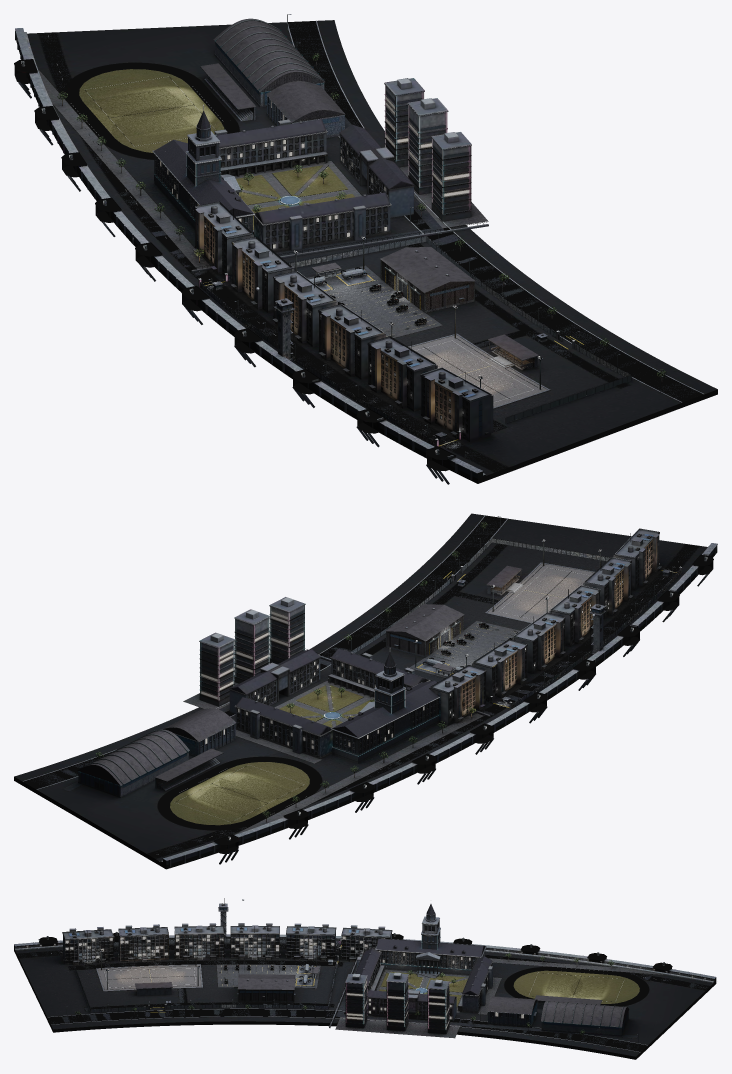
Rendered from barracks.glb.
3 renders of one model, top to bottom at view 1: azimuth 30°, elevation 25°; view 2: azimuth 150°, elevation 25°; view 3: azimuth 270°, elevation 25°, orthographic. The views are drawn at different scales.
Parts seen in each view (by area): view 1: site_ground, props_academy_blocks, props_academy_sports, props_barracks, props_edge, props_motorpool, props_academy_main, props_parade, props_trees, props_vehicles; view 2: site_ground, props_academy_sports, props_academy_blocks, props_barracks, props_edge, props_academy_main, props_motorpool, props_parade, props_trees; view 3: site_ground, props_barracks, props_academy_sports, props_academy_blocks, props_edge, props_academy_main, props_motorpool, props_parade, props_trees, props_lights, props_vehicles.
Part boxes in pixels (x1,y1,x2,y2): site_ground: (16, 20, 717, 483); props_academy_blocks: (191, 78, 488, 272); props_academy_sports: (64, 18, 345, 159); props_barracks: (192, 201, 493, 441); props_edge: (14, 28, 631, 484); props_motorpool: (307, 247, 475, 337); props_academy_main: (152, 104, 254, 234); props_parade: (408, 333, 550, 408); props_trees: (57, 53, 666, 382); props_vehicles: (309, 267, 426, 325); site_ground: (14, 513, 717, 869); props_academy_sports: (77, 708, 322, 830); props_academy_blocks: (199, 597, 490, 758); props_barracks: (429, 528, 661, 725); props_edge: (159, 538, 717, 867); props_academy_main: (330, 648, 439, 763); props_motorpool: (385, 604, 520, 677); props_parade: (485, 562, 594, 623); props_trees: (95, 522, 487, 822); site_ground: (14, 942, 716, 1059); props_barracks: (62, 923, 392, 964); props_academy_sports: (487, 966, 649, 1036); props_academy_blocks: (329, 948, 492, 1034); props_edge: (14, 898, 716, 1012); props_academy_main: (375, 904, 486, 978); props_motorpool: (216, 964, 320, 1002); props_parade: (96, 964, 202, 995); props_trees: (75, 953, 614, 1037); props_lights: (66, 936, 638, 1042); props_vehicles: (224, 964, 313, 983).
Bounding box in the file's own units: 249 × 76.59 × 608.
11 materials, 11 textured.
